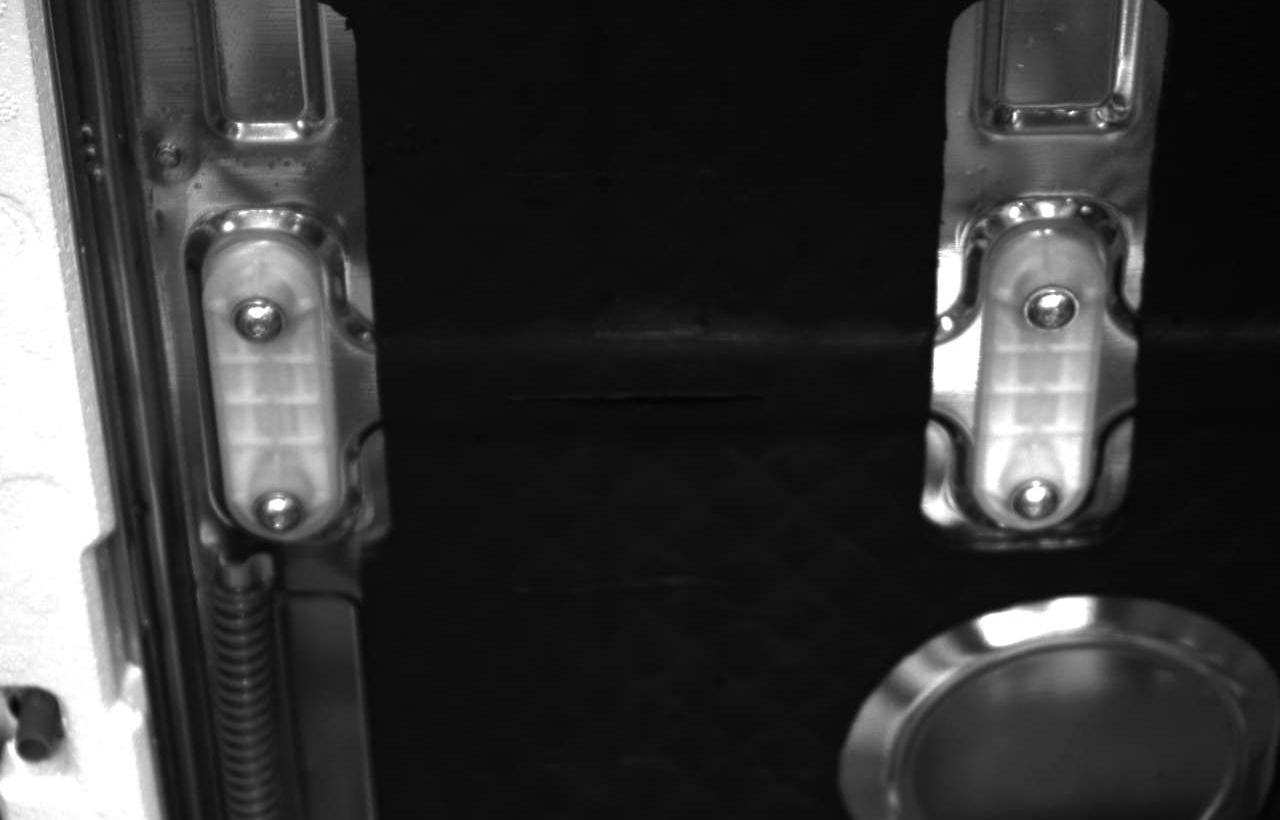vida-ok: (223, 289, 294, 357), (1000, 462, 1066, 531), (1016, 277, 1083, 344), (249, 485, 314, 544)
